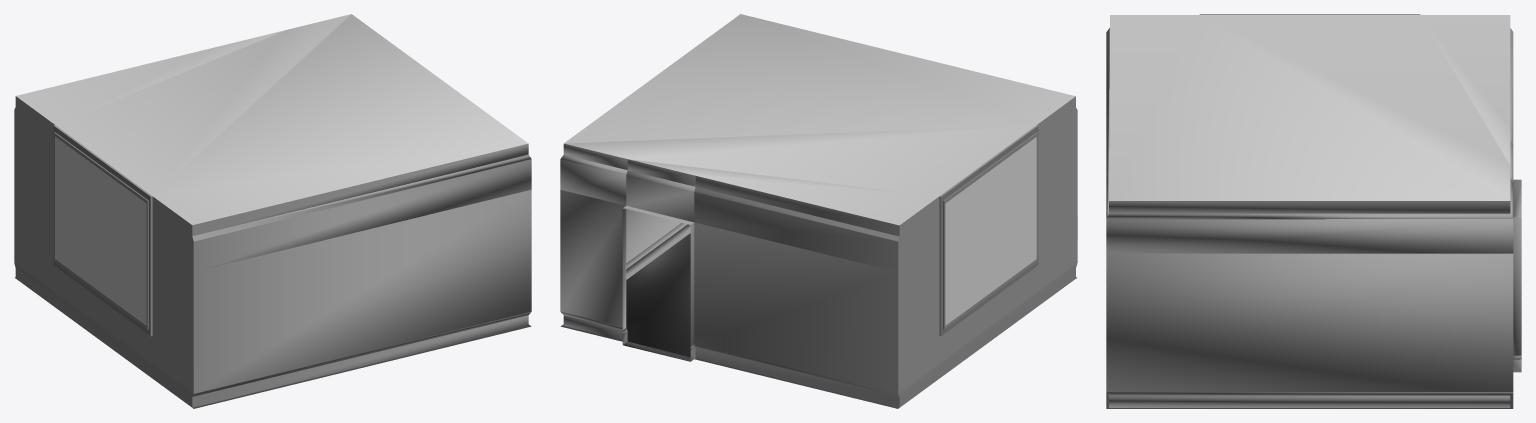
Rendered from BedroomModel#1.fbx.
3 renders of one model, left to right at view 1: azimuth 30°, elevation 25°; view 2: azimuth 150°, elevation 25°; view 3: azimuth 270°, elevation 25°, orthographic. The views are drawn at different scales.
Parts seen in each view (by area): view 1: BedroomModel#1; view 2: BedroomModel#1; view 3: BedroomModel#1.
Part boxes in pixels (box(x1,y1,x2,y2)): BedroomModel#1: box(14, 14, 531, 408); BedroomModel#1: box(560, 14, 1077, 408); BedroomModel#1: box(1106, 14, 1521, 408).
Bounding box in the file's own units: 593 × 304 × 552.
